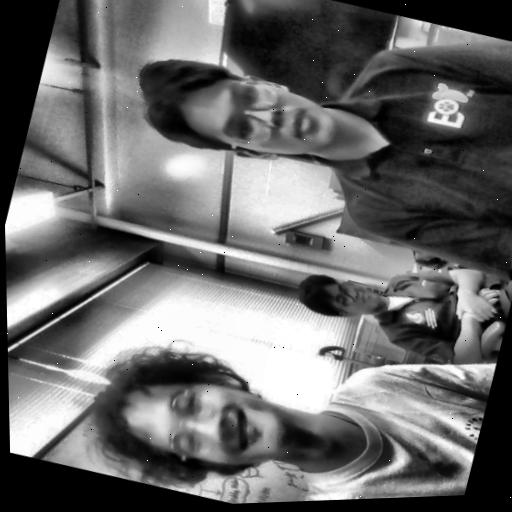Daifuku: (69, 322, 319, 510)
Not Daifuku: (125, 41, 344, 182), (289, 261, 386, 328)
